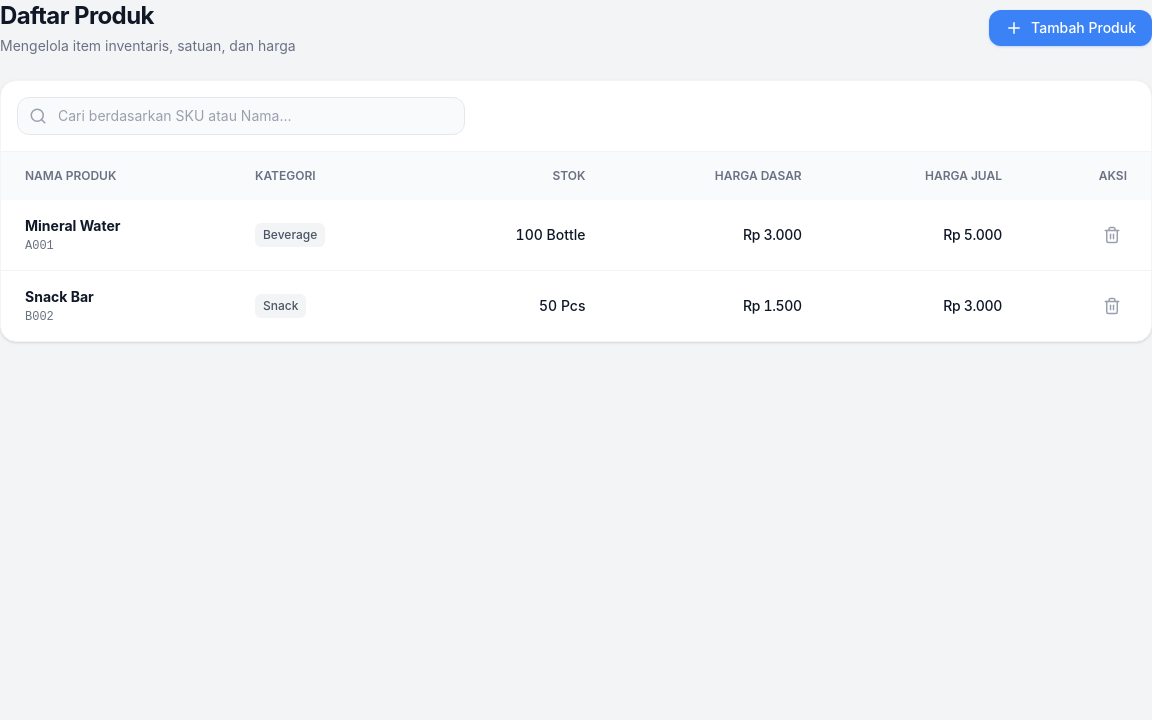
Test: Catalog Page › handles delete error
This screenshot has width=1152, height=720.
Expected: the text "Mineral Water" is shown, 25,217 -> 120,234
Click the button named "Hapus produk" in the row of "Mineral Water" at (1112, 235), box 1097,220 -> 1127,250
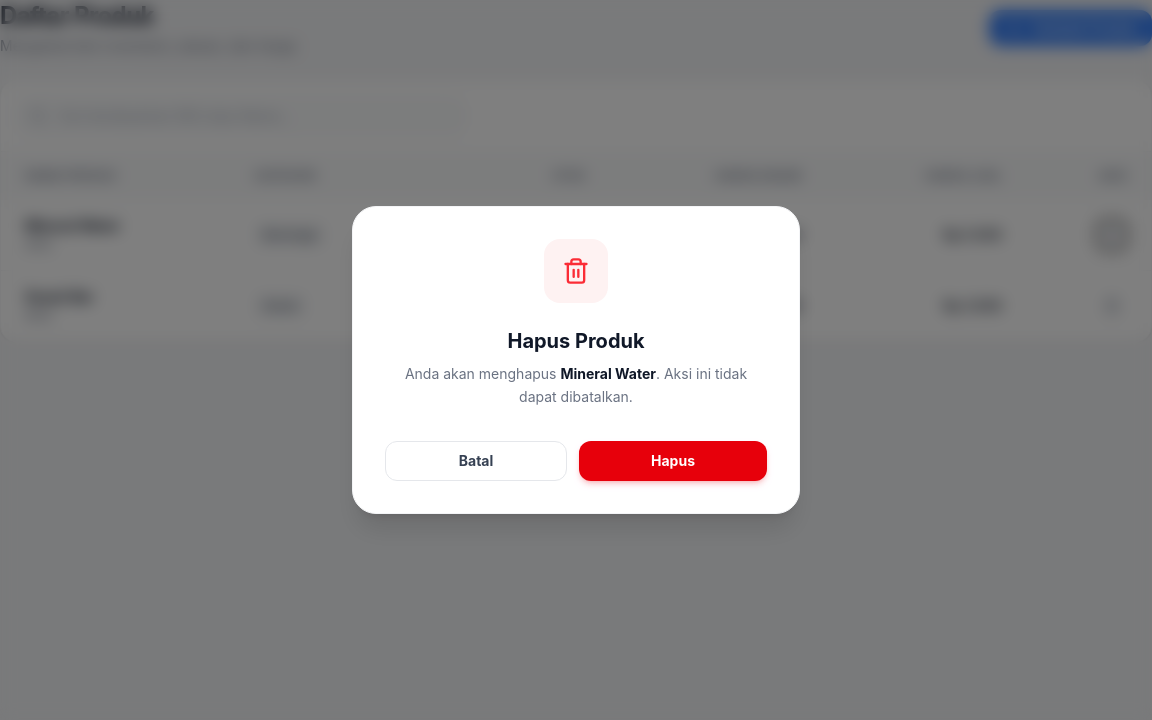
Click the button "Hapus" at (673, 461), box 579,441 -> 767,481
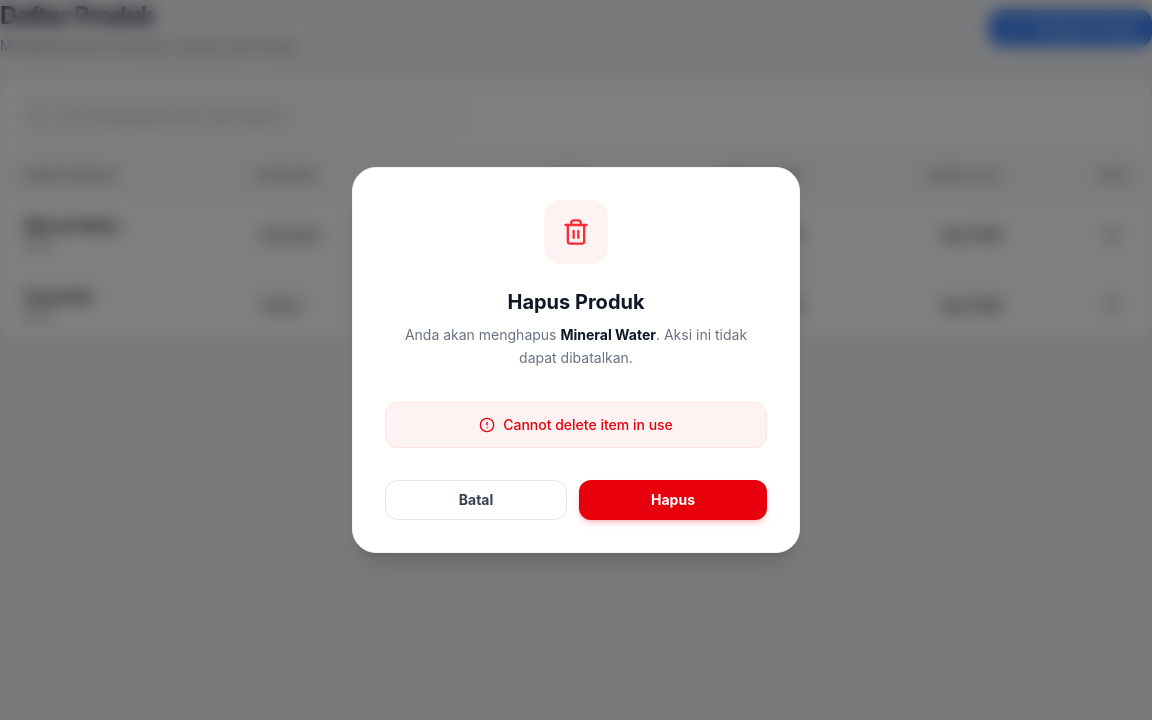
Expected: the heading "Hapus Produk" is shown, 508,290 -> 645,314
Expected: the text "Cannot delete item in use" is shown, 503,415 -> 673,435
